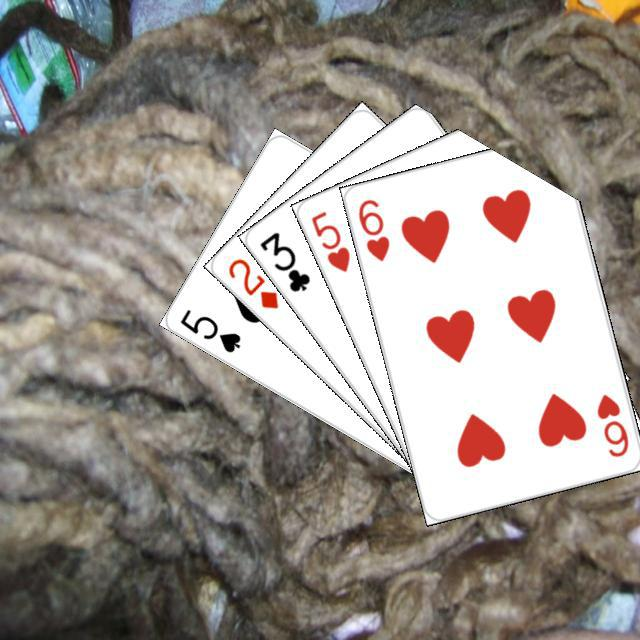2d: (223, 253, 280, 311)
3c: (254, 227, 312, 294)
5h: (306, 206, 352, 274)
5s: (175, 304, 243, 355)
6h: (591, 389, 631, 459), (353, 194, 391, 263)
